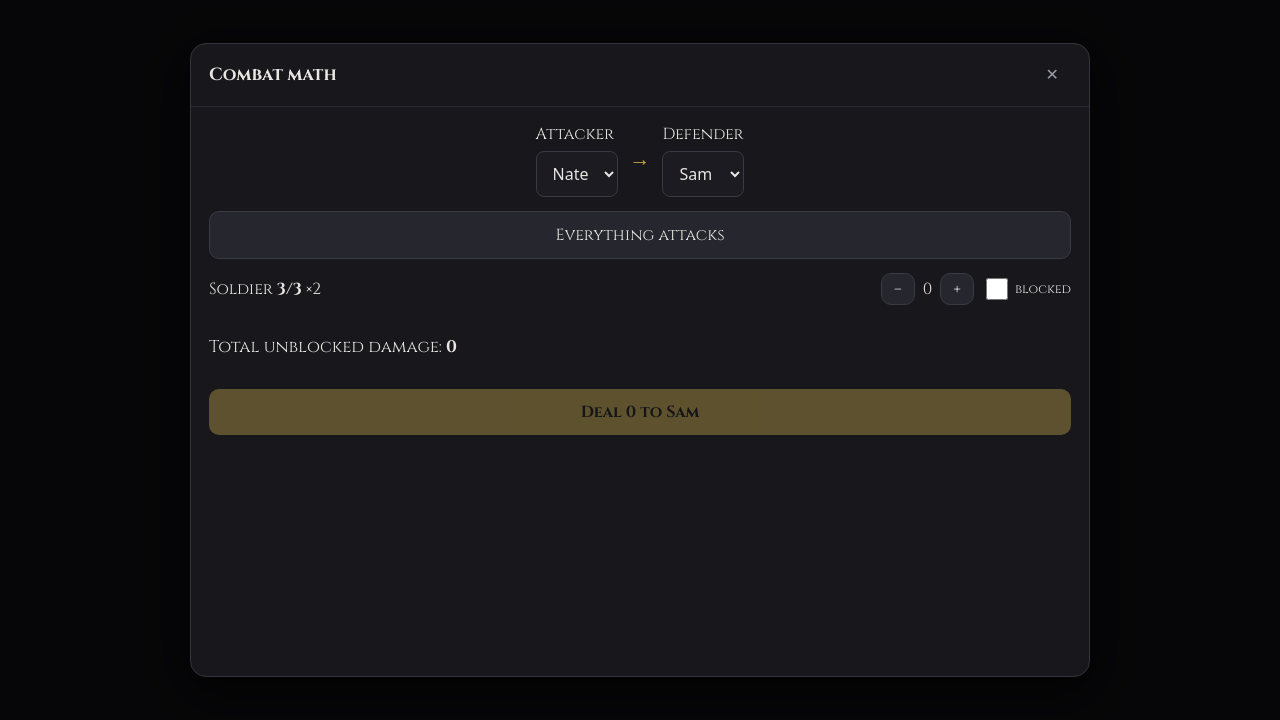
only creatures are listed, and sending everyone shows the right total
Click the button "Everything attacks" at (640, 235), box [209,211,1071,259]
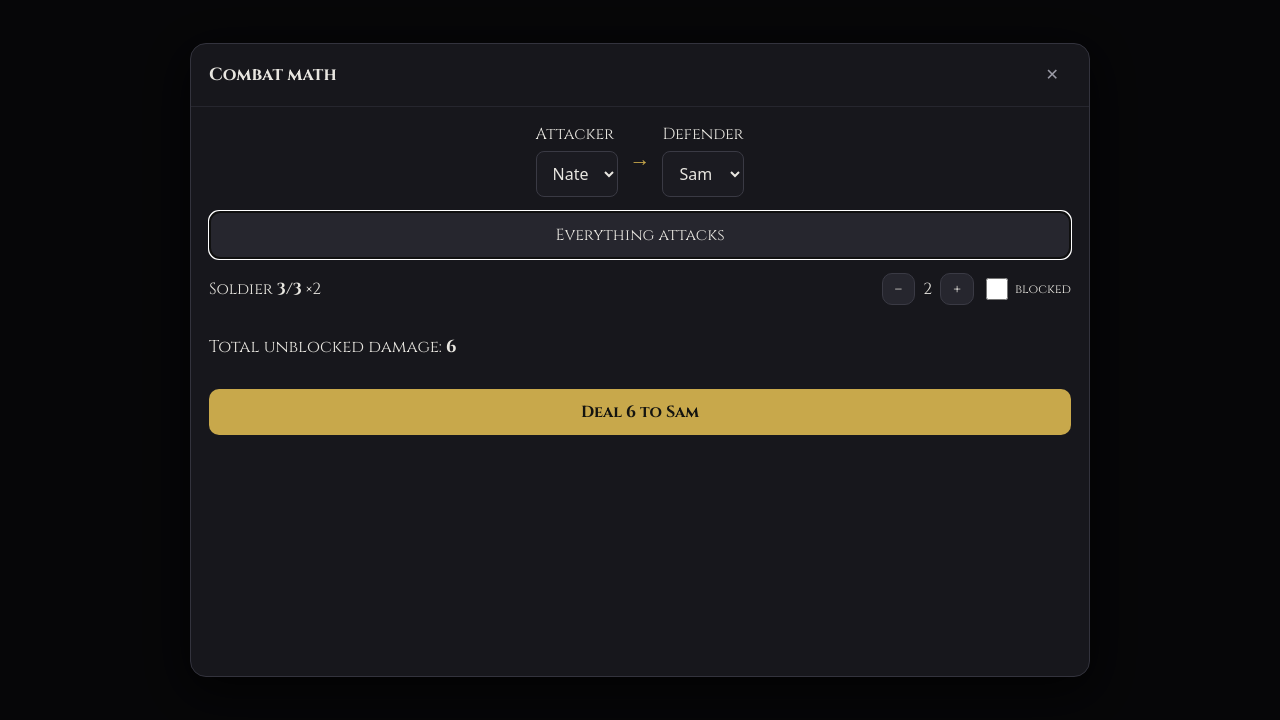
Now the element with test id "combat-total" shows "6", box [446,336,457,358]
